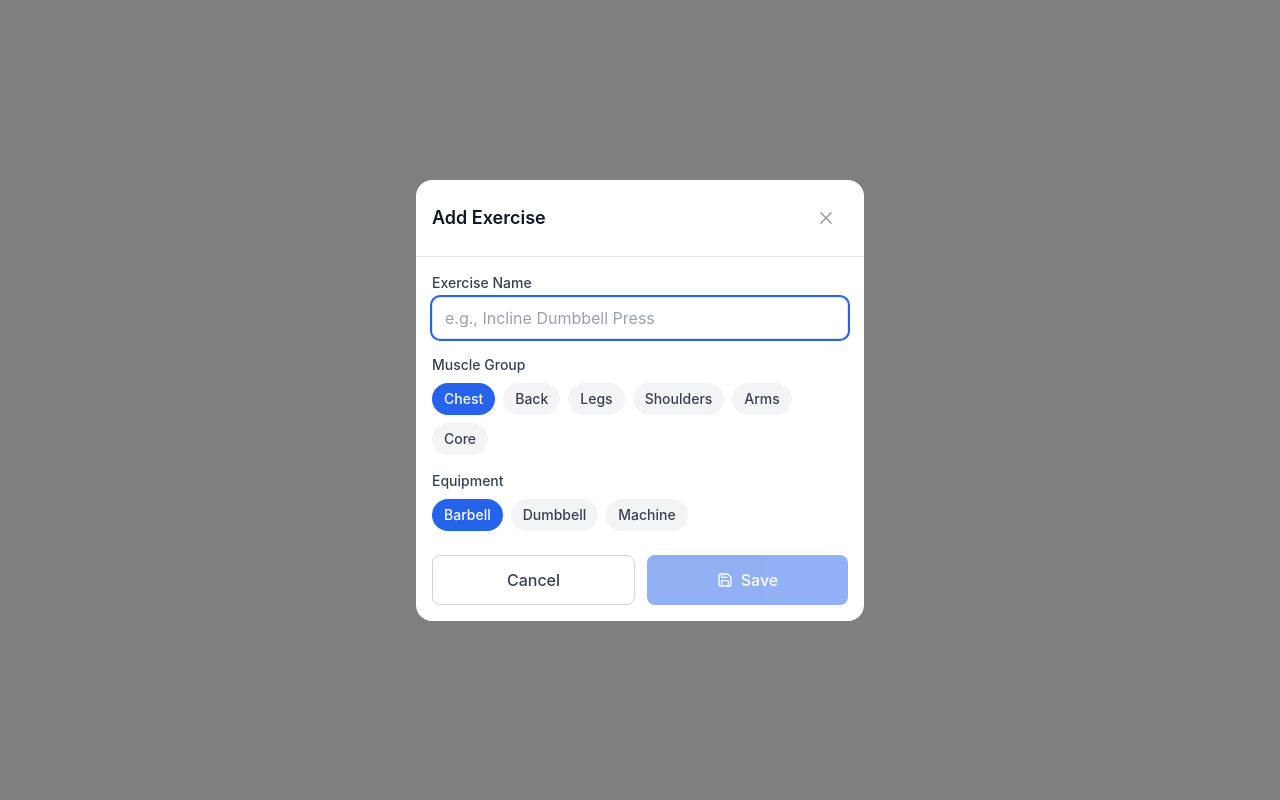
Test: ExerciseModal › Modal Actions › should enable save button when name has value
Type "Test" into the field labelled "Exercise Name" at (640, 318), box [432,296,848,338]
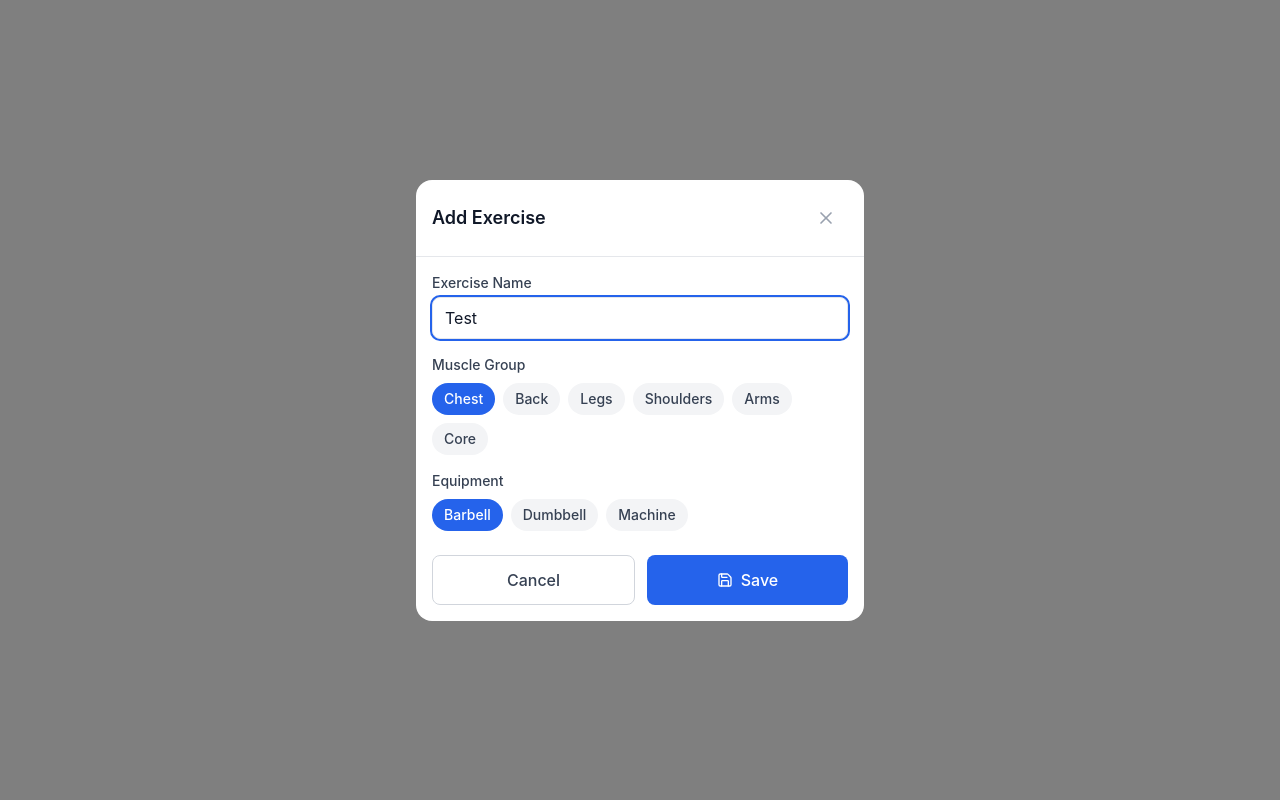
Check: the button "Save" is enabled, box [647,554,848,604]
